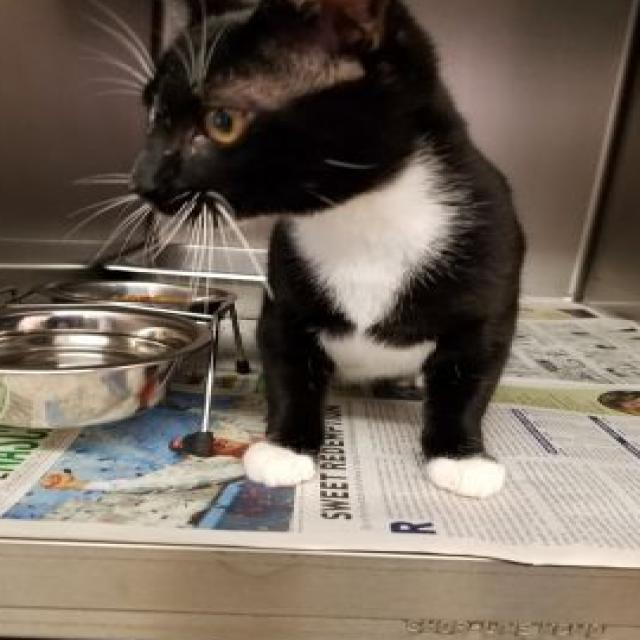Tuxedo: (116, 0, 529, 500)
